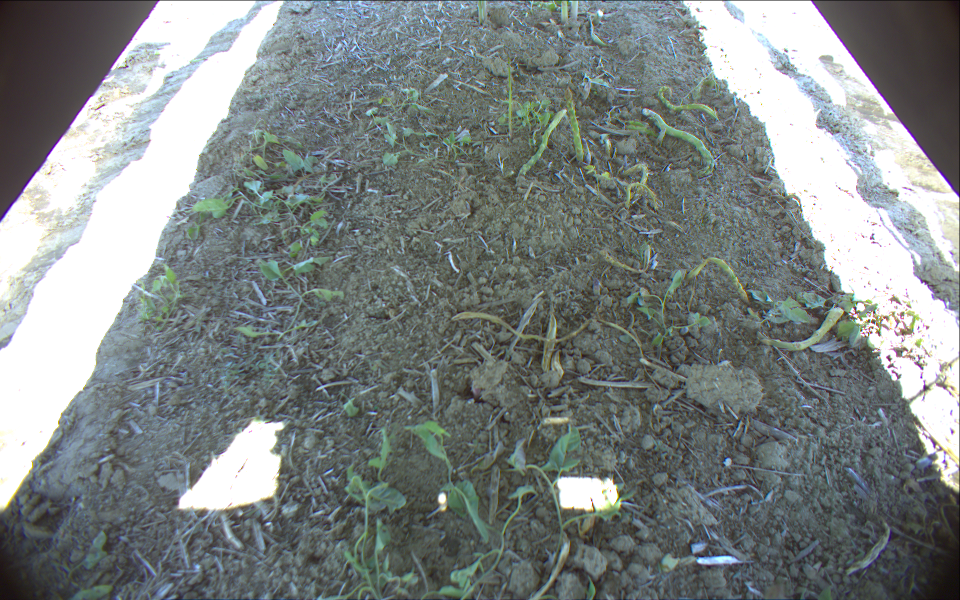aspa: (560, 87, 588, 165), (476, 1, 492, 26), (559, 1, 571, 27), (569, 1, 581, 25)
